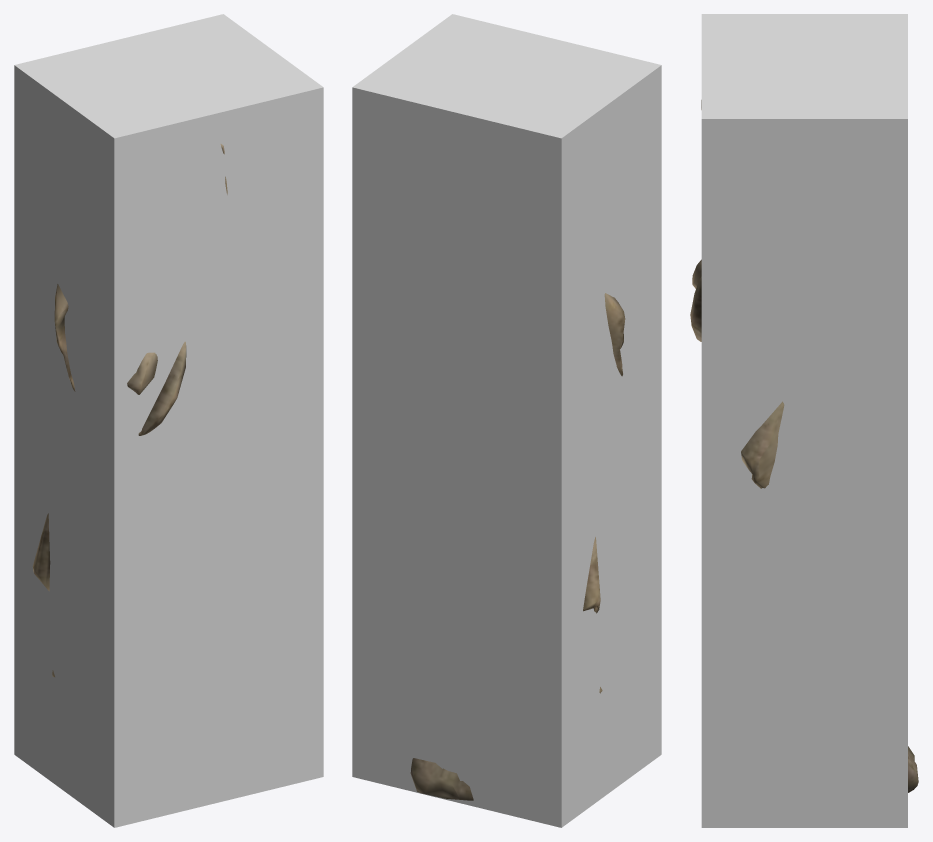
Rendered from mourner_statue_lite.glb.
The picture shows the model from 3 angles, left to right: view 1: azimuth 30°, elevation 25°; view 2: azimuth 150°, elevation 25°; view 3: azimuth 270°, elevation 25°; orthographic projection. The views are drawn at different scales.
Visible parts, largest first — view 1: col_mourner_statue, mourner_statue; view 2: col_mourner_statue, mourner_statue; view 3: col_mourner_statue, mourner_statue.
Part boxes in pixels (left/top/right/bottom): col_mourner_statue: left=14, top=14, right=323, bottom=827; mourner_statue: left=32, top=144, right=227, bottom=677; col_mourner_statue: left=352, top=14, right=661, bottom=827; mourner_statue: left=410, top=293, right=625, bottom=800; col_mourner_statue: left=701, top=14, right=907, bottom=827; mourner_statue: left=690, top=100, right=918, bottom=792.
Bounding box in the file's own units: 0.6323 × 1.8 × 0.5255.
Materials: 1 (1 with a texture image).
